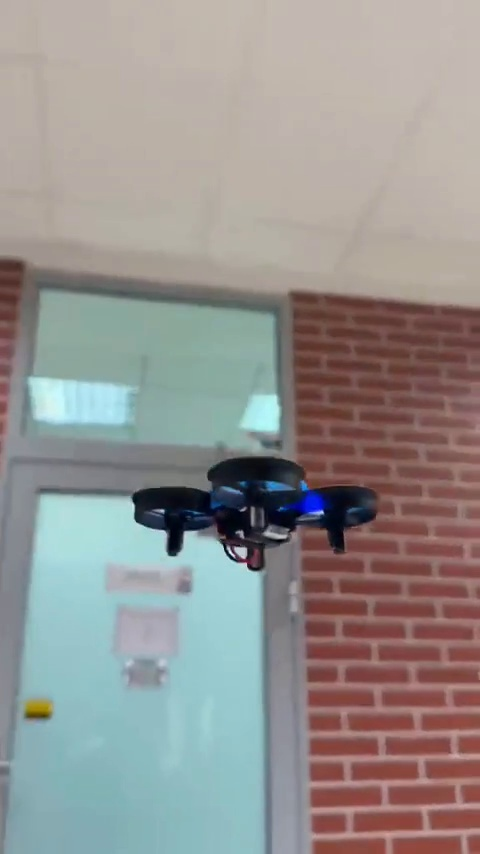drone: (128, 455, 375, 577)
